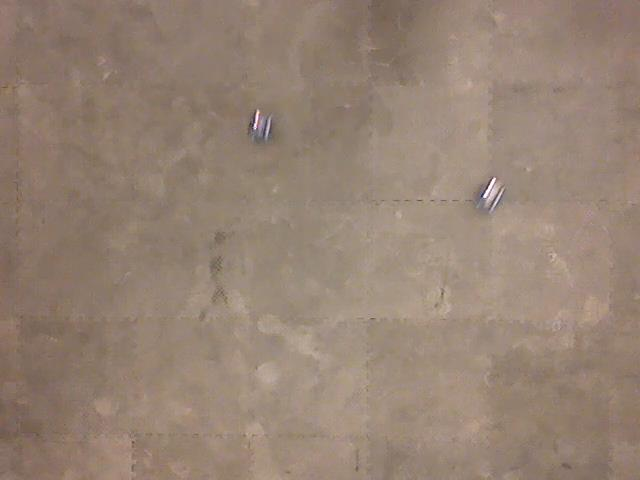Agent: (245, 106, 278, 148), (475, 175, 507, 215)
